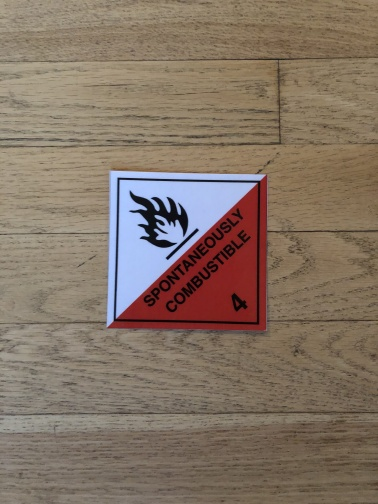SpontaneouslyCombustible: (107, 170, 268, 333)
